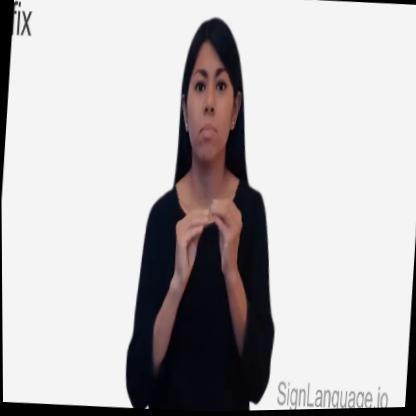Fix: (116, 6, 296, 414)
